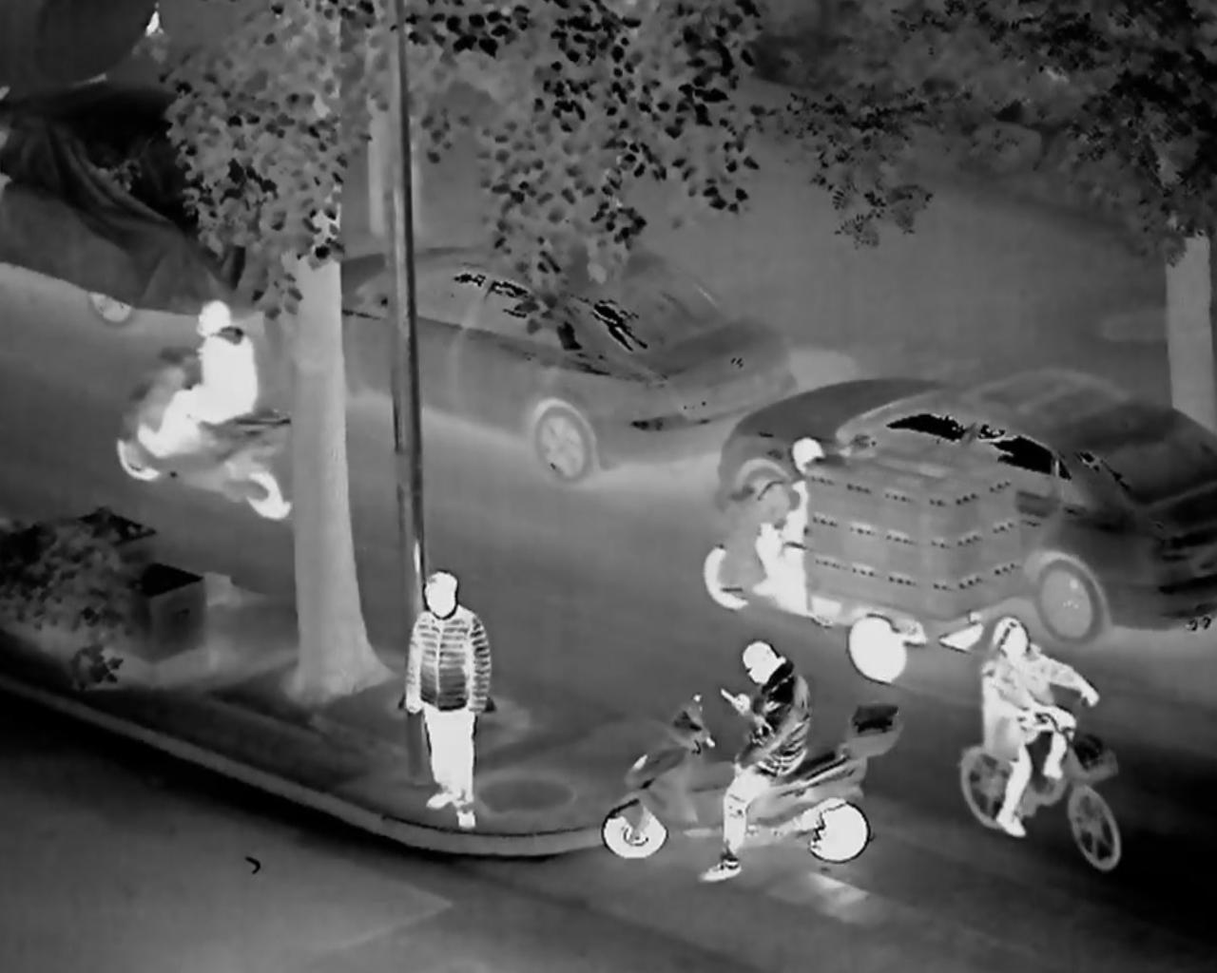person: (954, 601, 1115, 866), (687, 627, 833, 885), (395, 563, 505, 843), (123, 297, 265, 480), (749, 426, 841, 594)
